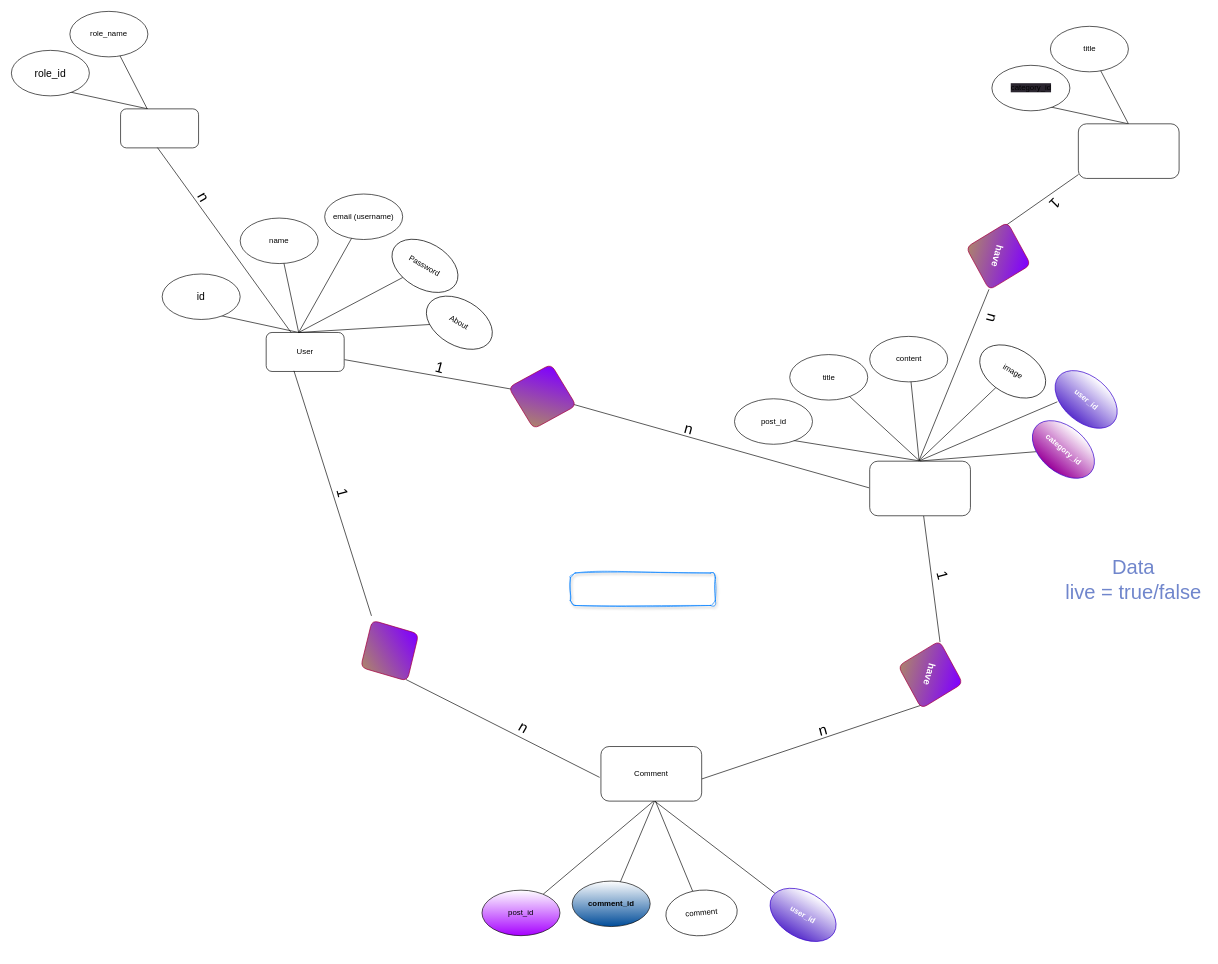
This 1218x964 diagram has some shape labels left out. The shapes that lost their labels are listed below. From the top down, each one's centre as x and y in pixels, then its label:
point 159,128: Role
point 1128,150: Category
point 542,396: create
point 919,488: Post
point 643,590: CodeXam ER
point 389,650: do
